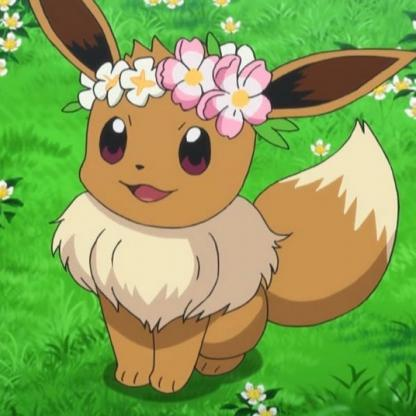Eevee: (1, 12, 416, 416)
